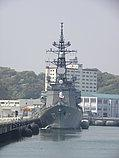MIL_Ship: (36, 20, 85, 131)
